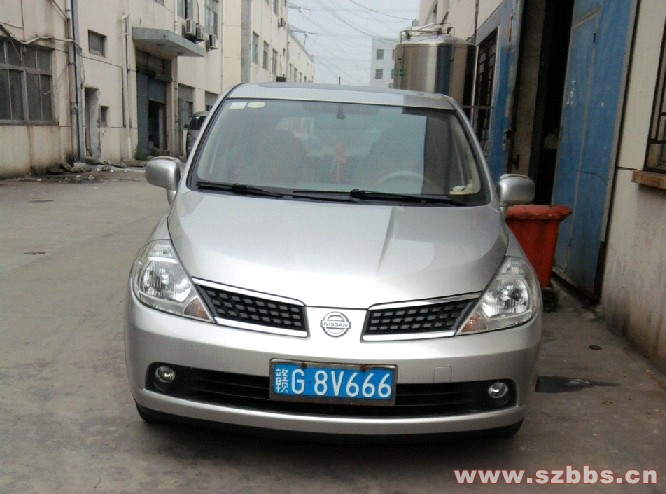plate_number: (272, 360, 397, 399)
